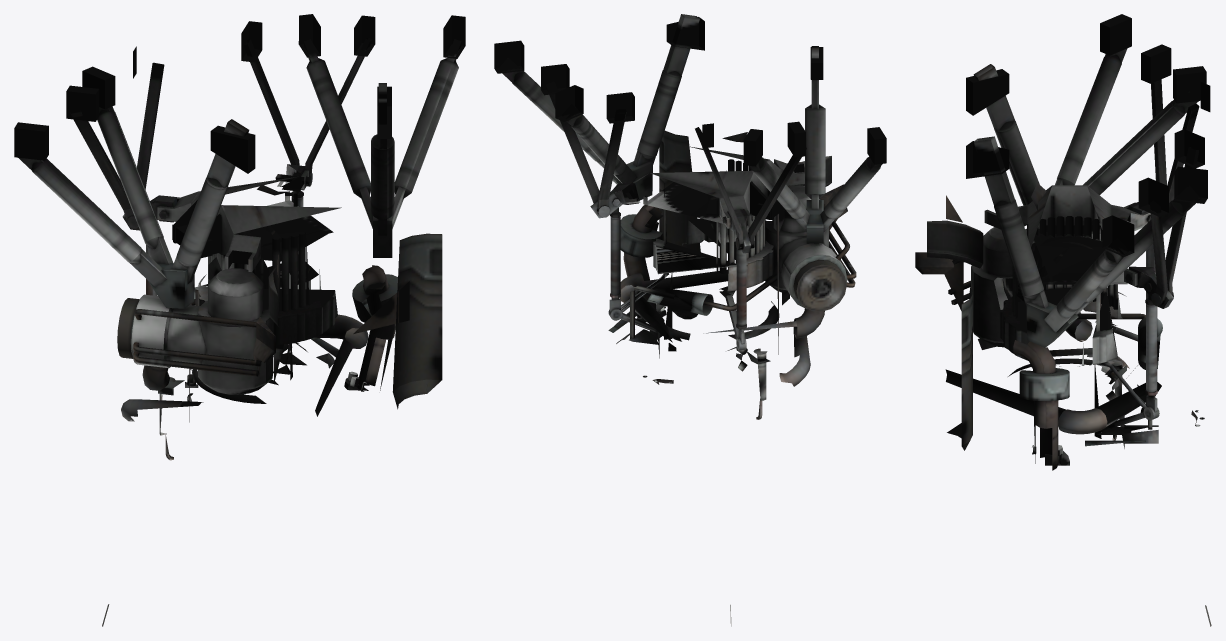
File: Wires.fbx
3 views of the same model, side by side, from view 1: azimuth 30°, elevation 25°; view 2: azimuth 150°, elevation 25°; view 3: azimuth 270°, elevation 25° (orthographic). The views are drawn at different scales.
Parts seen in each view (by area): view 1: Rocket_Engine.004; view 2: Rocket_Engine.004; view 3: Rocket_Engine.004.
Part boxes in pixels (left/top/right/bottom): Rocket_Engine.004: left=14, top=14, right=465, bottom=626; Rocket_Engine.004: left=494, top=14, right=886, bottom=626; Rocket_Engine.004: left=915, top=14, right=1211, bottom=626.
Size of the model in its own units: 211 by 260 by 123.
